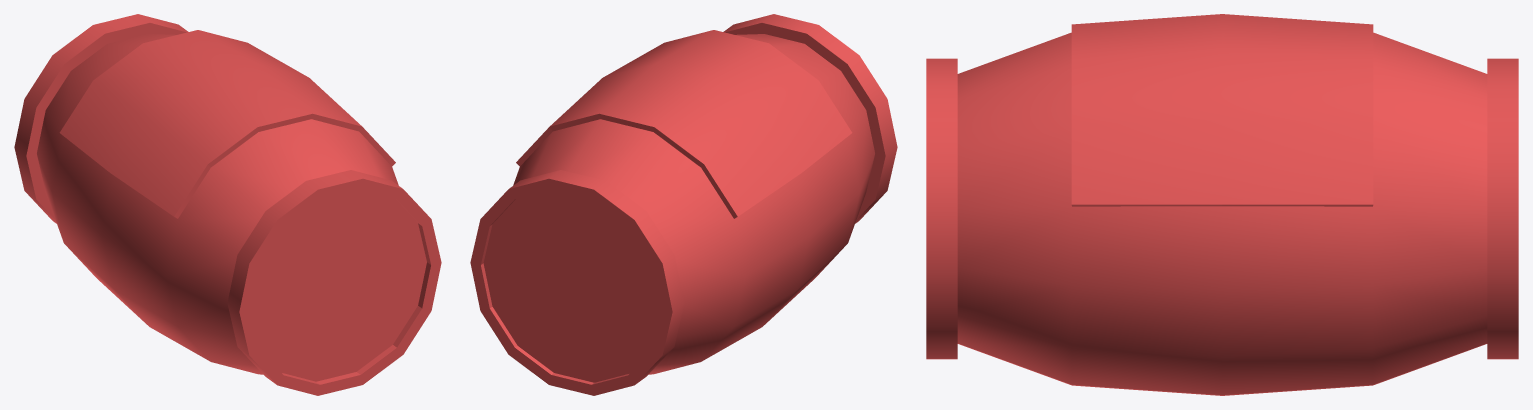
The model's file is SM_Tonneau_Explosif.fbx.
3 views of the same model, side by side, from view 1: azimuth 30°, elevation 25°; view 2: azimuth 150°, elevation 25°; view 3: azimuth 270°, elevation 25° (orthographic). The views are drawn at different scales.
Parts seen in each view (by area): view 1: Object007, Cylinder001, Cylinder006; view 2: Object007, Cylinder001, Cylinder006; view 3: Cylinder001, Cylinder006, Object007.
Part boxes in pixels (box(x1,y1,x2,y2)): Object007: box(14, 14, 441, 395); Cylinder001: box(37, 34, 398, 374); Cylinder006: box(59, 30, 395, 218); Object007: box(470, 14, 897, 395); Cylinder001: box(513, 34, 874, 374); Cylinder006: box(516, 30, 852, 218); Cylinder001: box(957, 32, 1487, 395); Cylinder006: box(1071, 14, 1373, 206); Object007: box(926, 58, 1518, 359).
Size of the model in its own units: 183 by 183 by 284.
